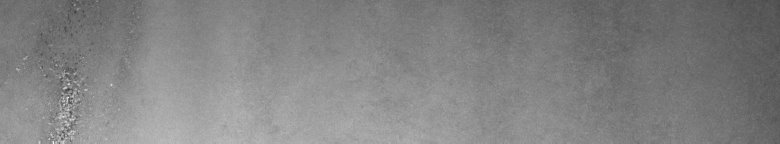hc: (16, 4, 92, 136)
